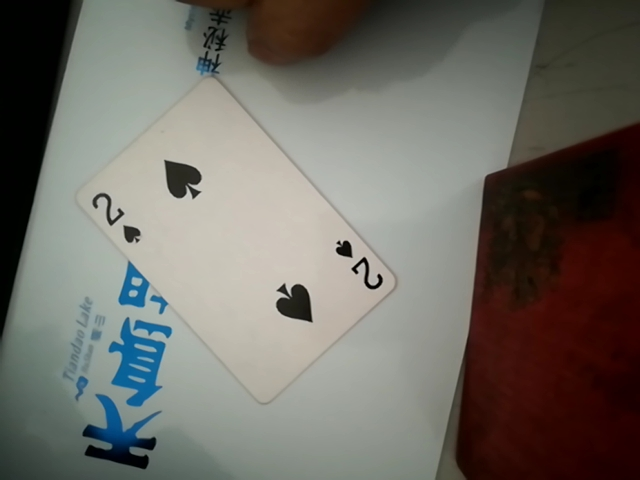ht 2: (72, 82, 395, 392)
